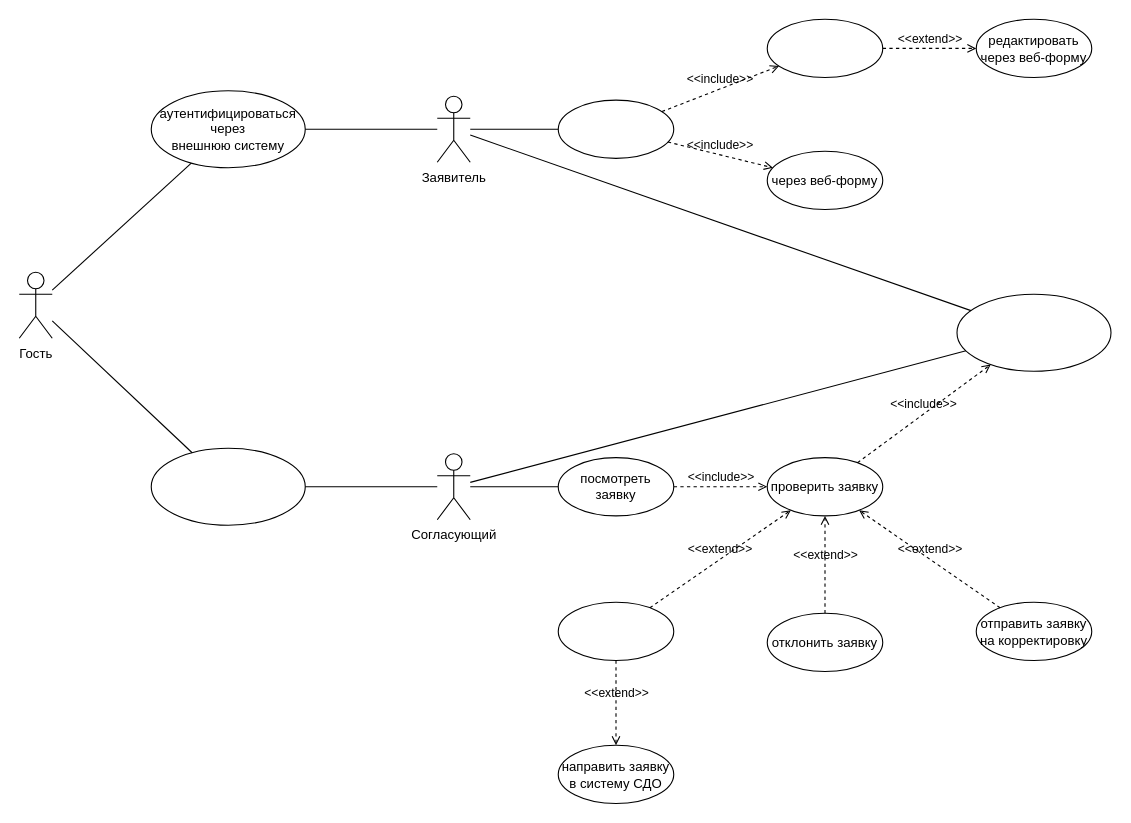
The diagram is 1131 pixels wide and 823 high, and some of its shapes have lost their labels. Here are the shapes that lost their labels. From the top down, the box of each, then its label:
(766, 18, 883, 78): загрузка excel файла
(557, 99, 674, 158): создать заявку
(956, 293, 1111, 371): получать уведомление от системы Почтовой службы
(150, 447, 305, 525): авторизоваться на Портале
(557, 601, 674, 661): одобрить заявку
